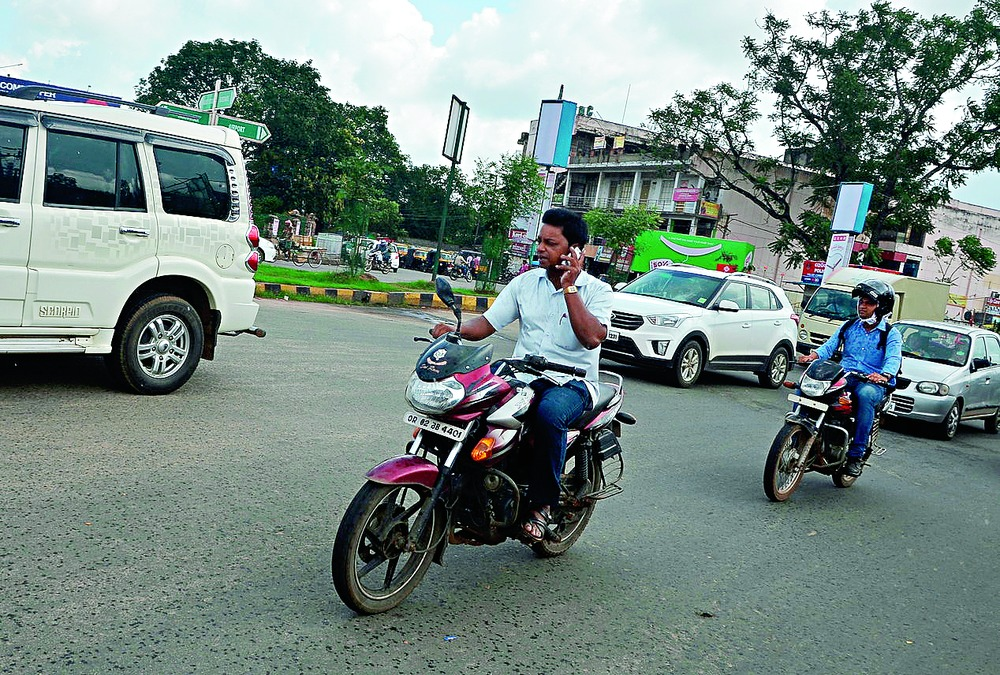dieu khien xe may: (405, 203, 605, 497)
su dung dien thoai: (535, 206, 590, 296)
